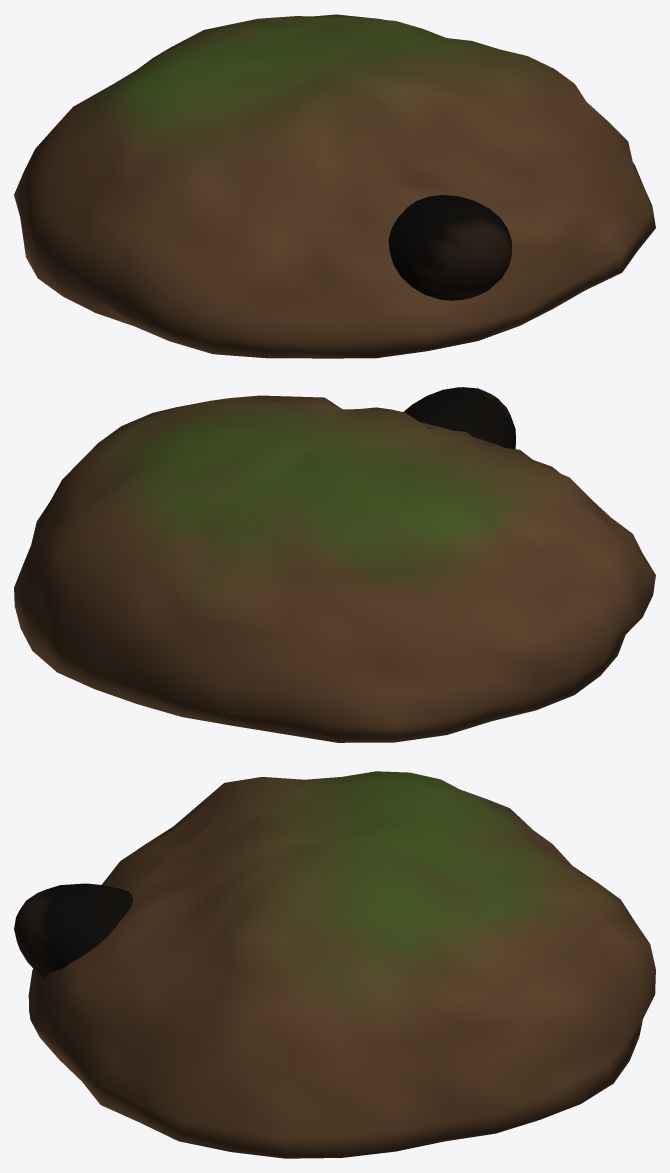
Rendered from Burrow.glb.
The picture shows the model from 3 angles, top to bottom: view 1: azimuth 30°, elevation 25°; view 2: azimuth 150°, elevation 25°; view 3: azimuth 270°, elevation 25°; orthographic projection. The views are drawn at different scales.
Visible parts, largest first — view 1: Mound, Hole; view 2: Mound, Hole; view 3: Mound, Hole.
Boxes of the visible parts, x1,y1,x2,y2 form: Mound: (14, 14, 655, 358); Hole: (388, 195, 511, 300); Mound: (14, 395, 655, 742); Hole: (403, 387, 515, 449); Mound: (28, 771, 655, 1158); Hole: (14, 883, 132, 979).
Bounding box in the file's own units: 1.63 × 0.471 × 1.54.
